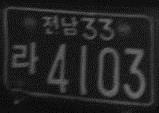0: (96, 46, 120, 97)
1: (79, 43, 88, 97)
3: (122, 46, 147, 99), (98, 17, 114, 41), (80, 17, 97, 39)
4: (45, 41, 70, 93)
라: (11, 41, 39, 75)
전남_O: (41, 14, 79, 37)
